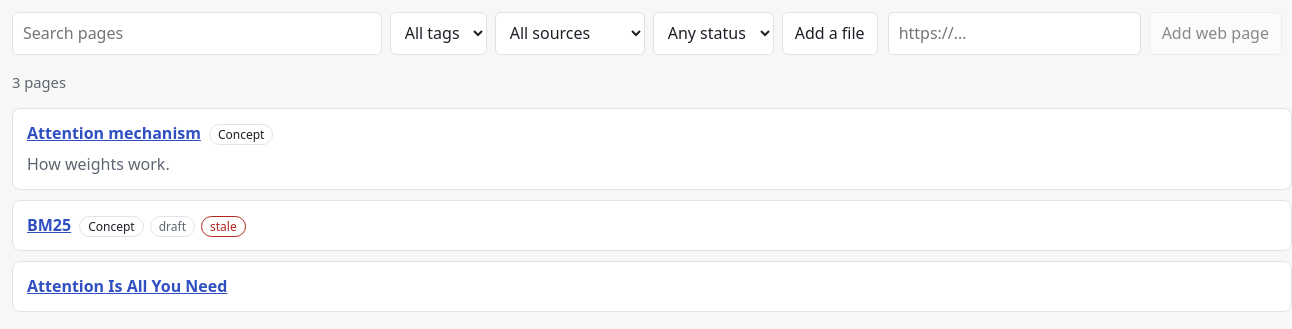
Test: filters by the source a page cites
Select "Reading notes" in the dropdown named "Filter by source": (570, 33) left=495, top=12, right=645, bottom=55
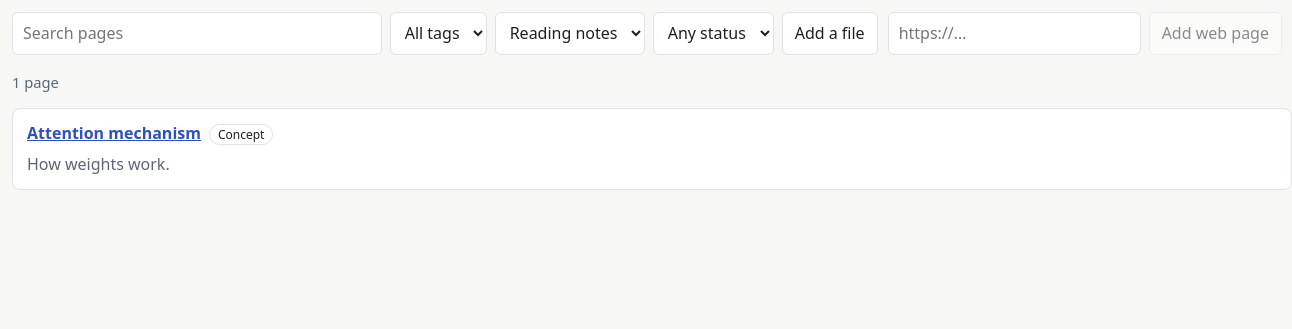
Expected: the link "Attention mechanism" is shown, left=27, top=122, right=201, bottom=144
Expected: the text "1 page" is shown, left=12, top=72, right=59, bottom=92
